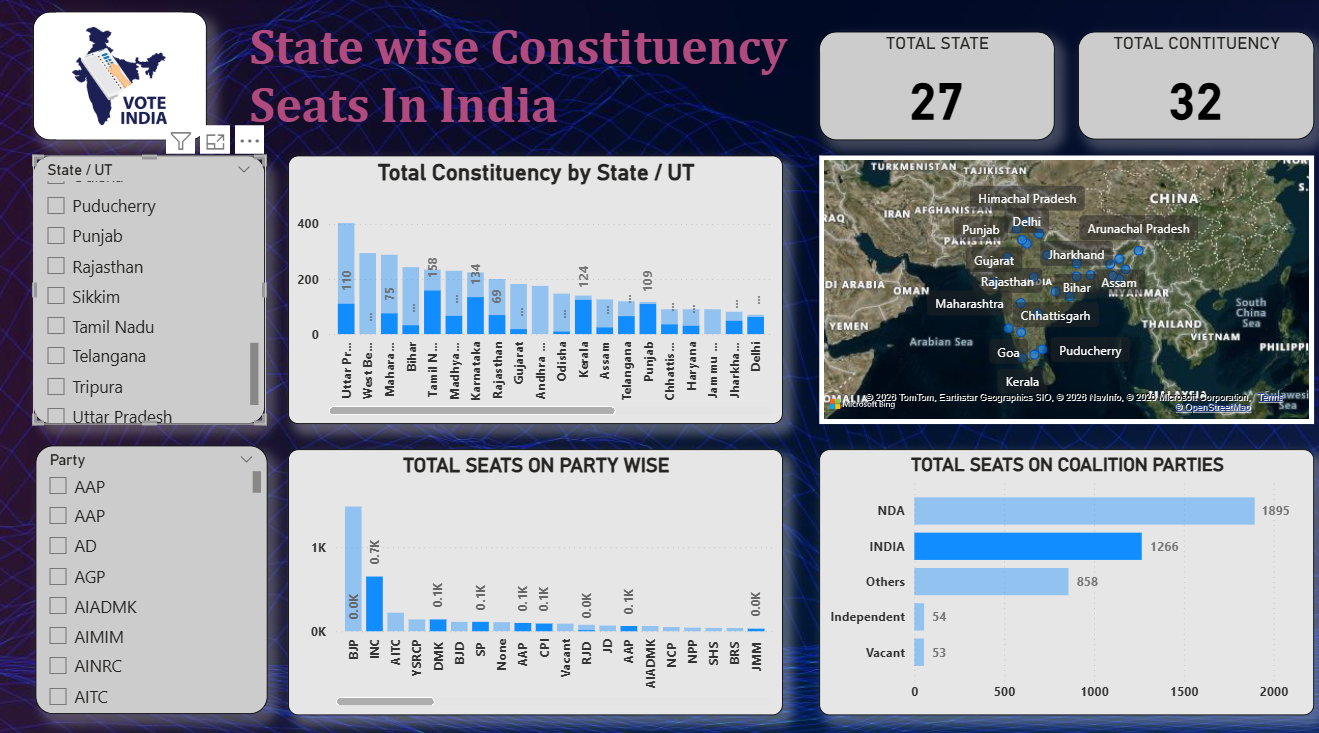

This screenshot's page, from the dashboard's own definition file:
{"tool":"powerbi","page":{"name":"Page 1","canvas":[1280,720],"ordinal":0},"visuals":[{"type":"card","title":"TOTAL STATE","fields":{"Values":["Count(Data.State / UT)"]},"box":[792.6,32.6,226.8,105],"z":0},{"type":"card","title":"TOTAL CONTITUENCY","fields":{"Values":["Count(Data.Total Constituency)"]},"box":[1042.4,32.6,228,103.8],"z":1000},{"type":"columnChart","title":"Total Constituency by State / UT","fields":{"Category":["Data.State / UT"],"Y":["Sum(Data.Total Constituency)"]},"box":[279.9,152.3,477.5,259.3],"z":2000},{"type":"map","fields":{"Category":["Data.State / UT"]},"box":[793.1,152.3,477.5,259.3],"z":3000},{"type":"columnChart","title":"TOTAL SEATS ON PARTY WISE","fields":{"Y":["Sum(Data.Total Constituency)"],"Category":["Data.Party"]},"box":[279.9,435,477.5,256.6],"z":4000},{"type":"clusteredBarChart","title":"TOTAL SEATS ON COALITION PARTIES","fields":{"Category":["Data.NDA / INDI"],"Y":["Sum(Data.Total Constituency)"]},"box":[793.1,435,477.5,256.6],"z":5000},{"type":"slicer","fields":{"Values":["Data.State / UT"]},"box":[34.3,152.3,223.7,259.3],"z":6000},{"type":"slicer","fields":{"Values":["Data.Party"]},"box":[35.7,432.2,223.7,259.3],"z":7000},{"type":"textbox","box":[237.4,13.7,544.8,138.6],"z":8000},{"type":"image","box":[33.8,13.3,167.7,124.3],"z":9000}]}

Visuals, with their boxes in screenshot pixels (x1, y1, x2, y2), scaled from the page's 1280x720 canvas onto the 1319x733 screenshot:
"TOTAL STATE" card: [817, 33, 1050, 140]
"TOTAL CONTITUENCY" card: [1074, 33, 1309, 139]
"Total Constituency by State / UT" columnChart: [288, 155, 780, 419]
map - Data.State / UT: [817, 155, 1309, 419]
"TOTAL SEATS ON PARTY WISE" columnChart: [288, 443, 780, 704]
"TOTAL SEATS ON COALITION PARTIES" clusteredBarChart: [817, 443, 1309, 704]
slicer - Data.State / UT: [35, 155, 266, 419]
slicer - Data.Party: [37, 440, 267, 704]
textbox: [245, 14, 806, 155]
image: [35, 14, 208, 140]
